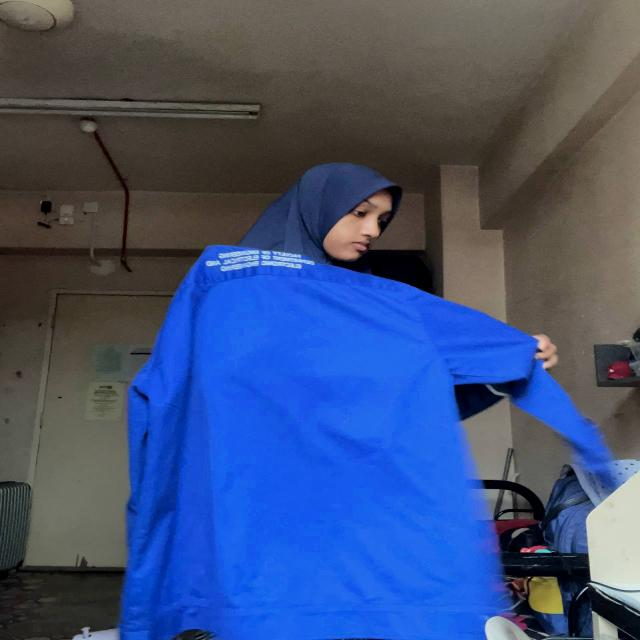person_without_labcoat: (119, 163, 619, 640)
